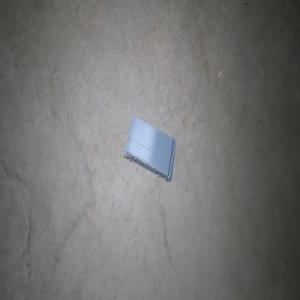PlasticPart: (123, 115, 176, 182)
